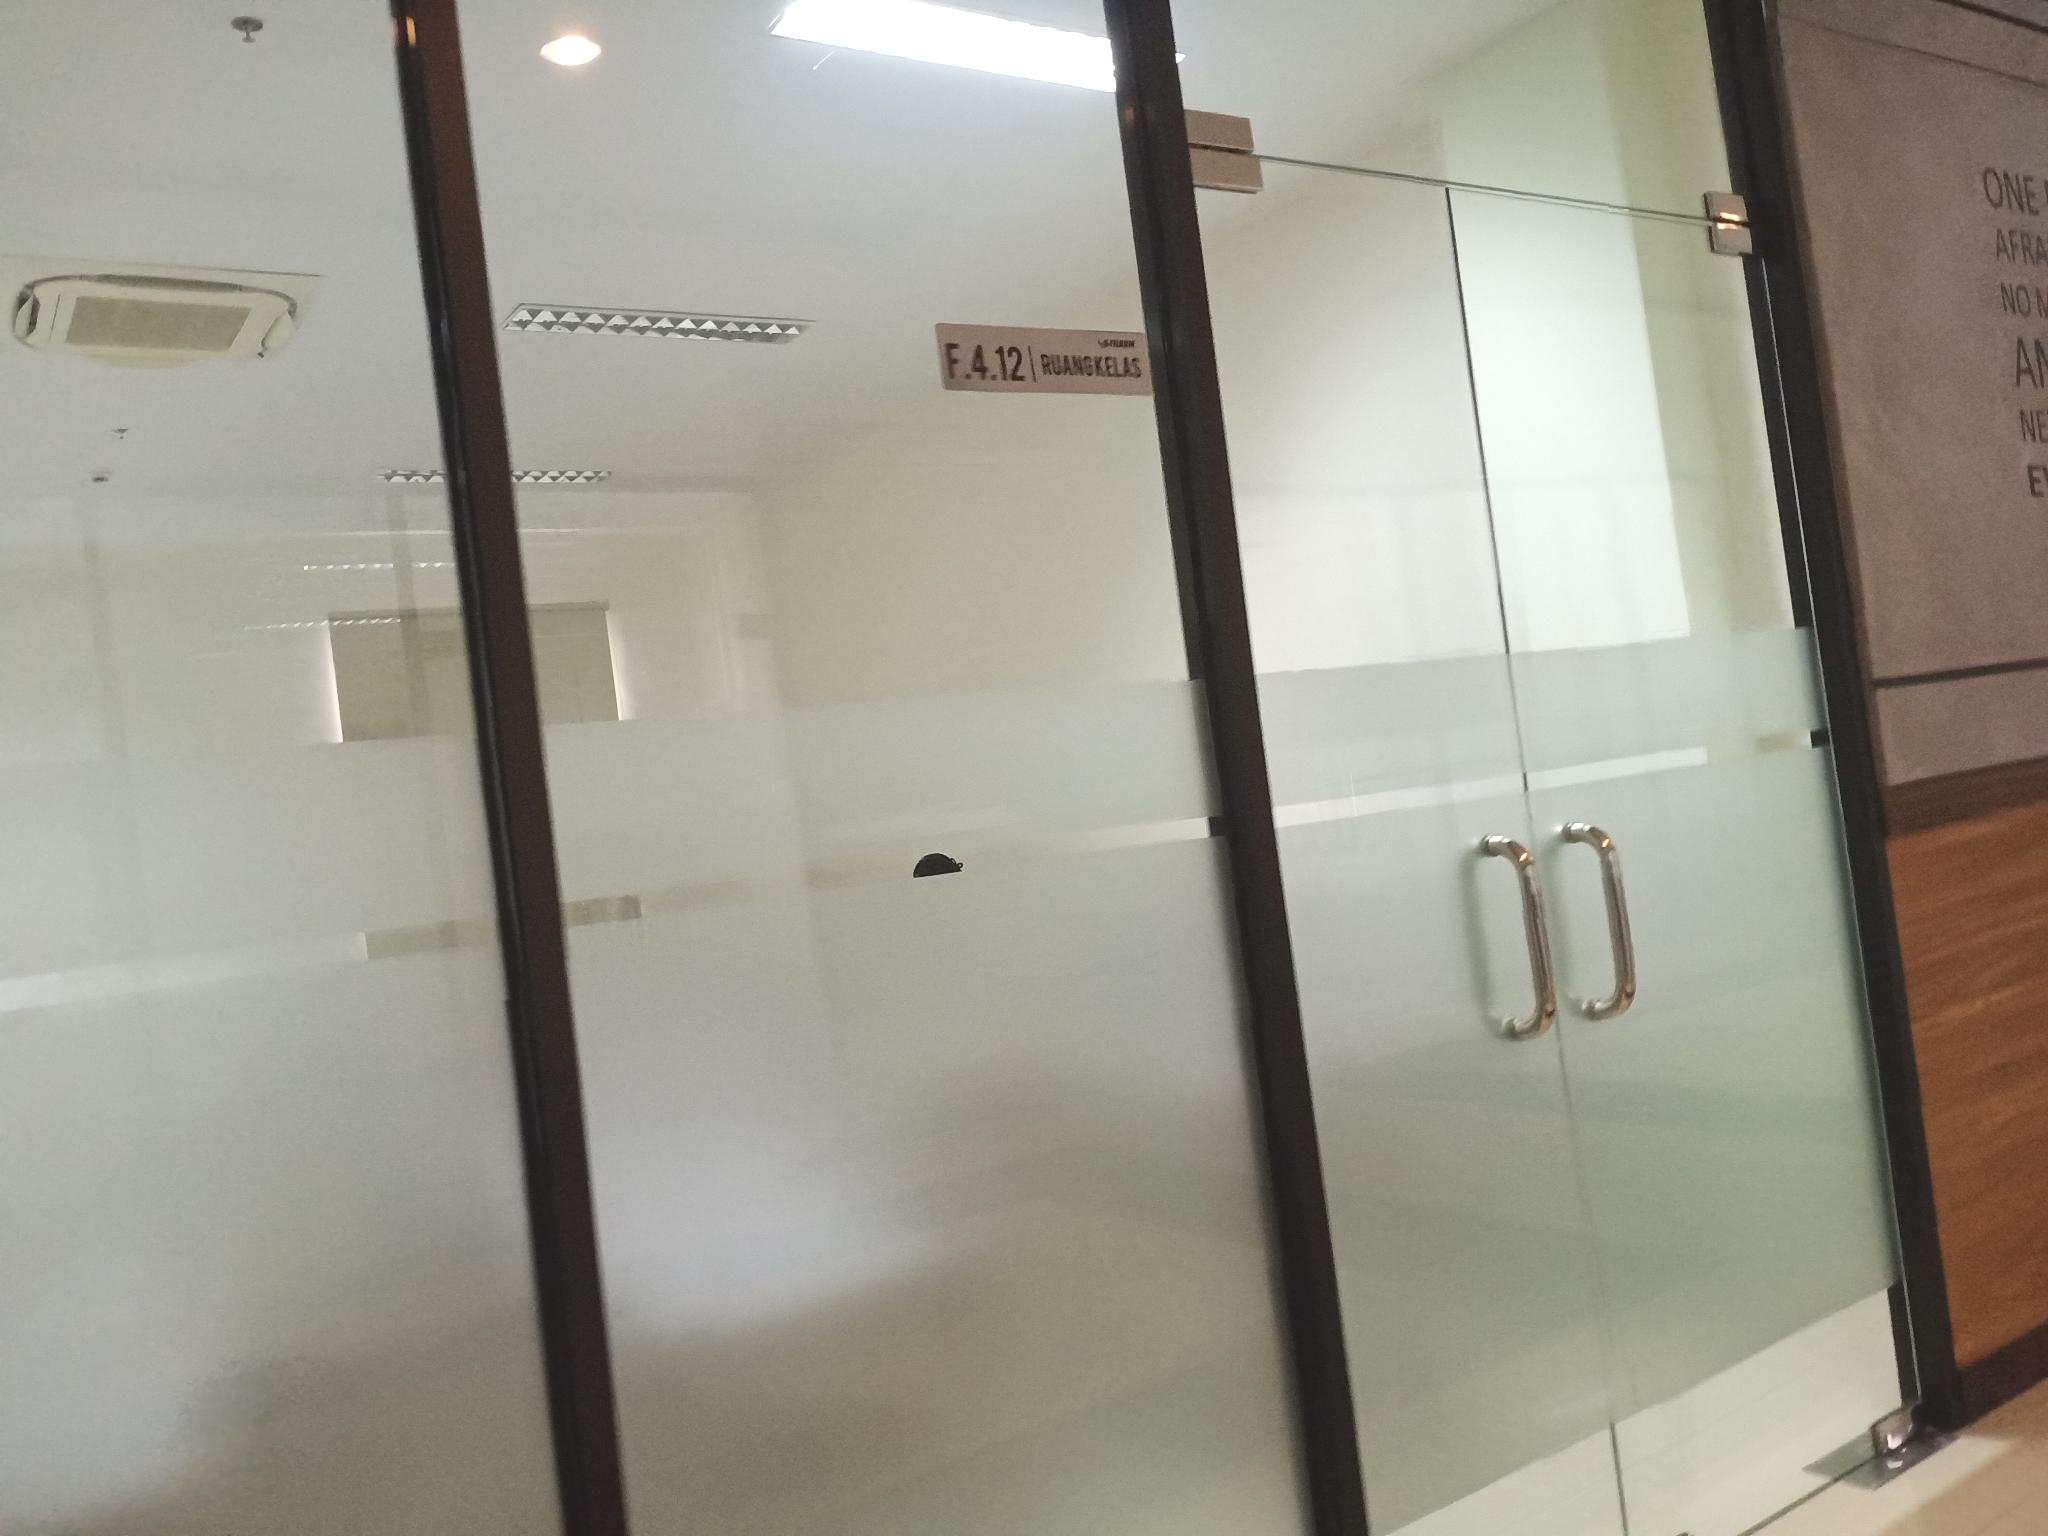plate: (934, 321, 1153, 395)
